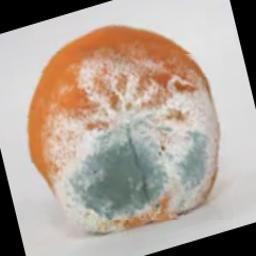Orange Rotten: (23, 51, 234, 221)
